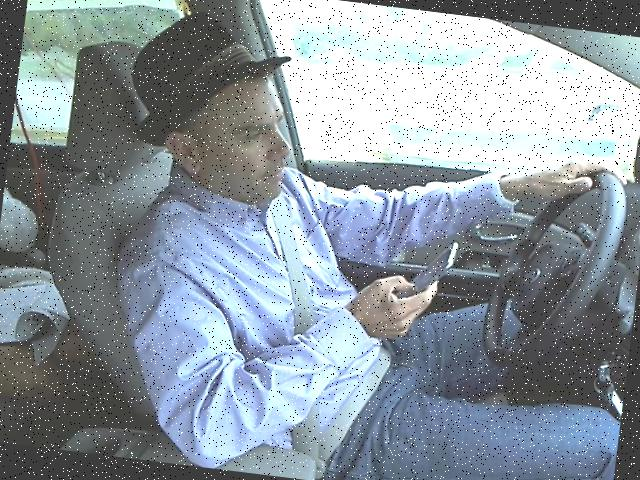c1 - Texting: (75, 0, 639, 479)
